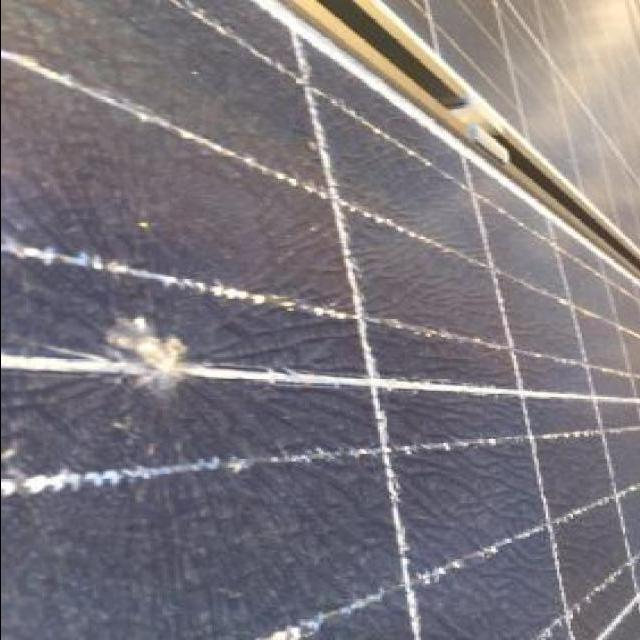cracked: (0, 6, 638, 634)
